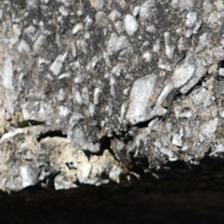Crack: (50, 36, 163, 123)
